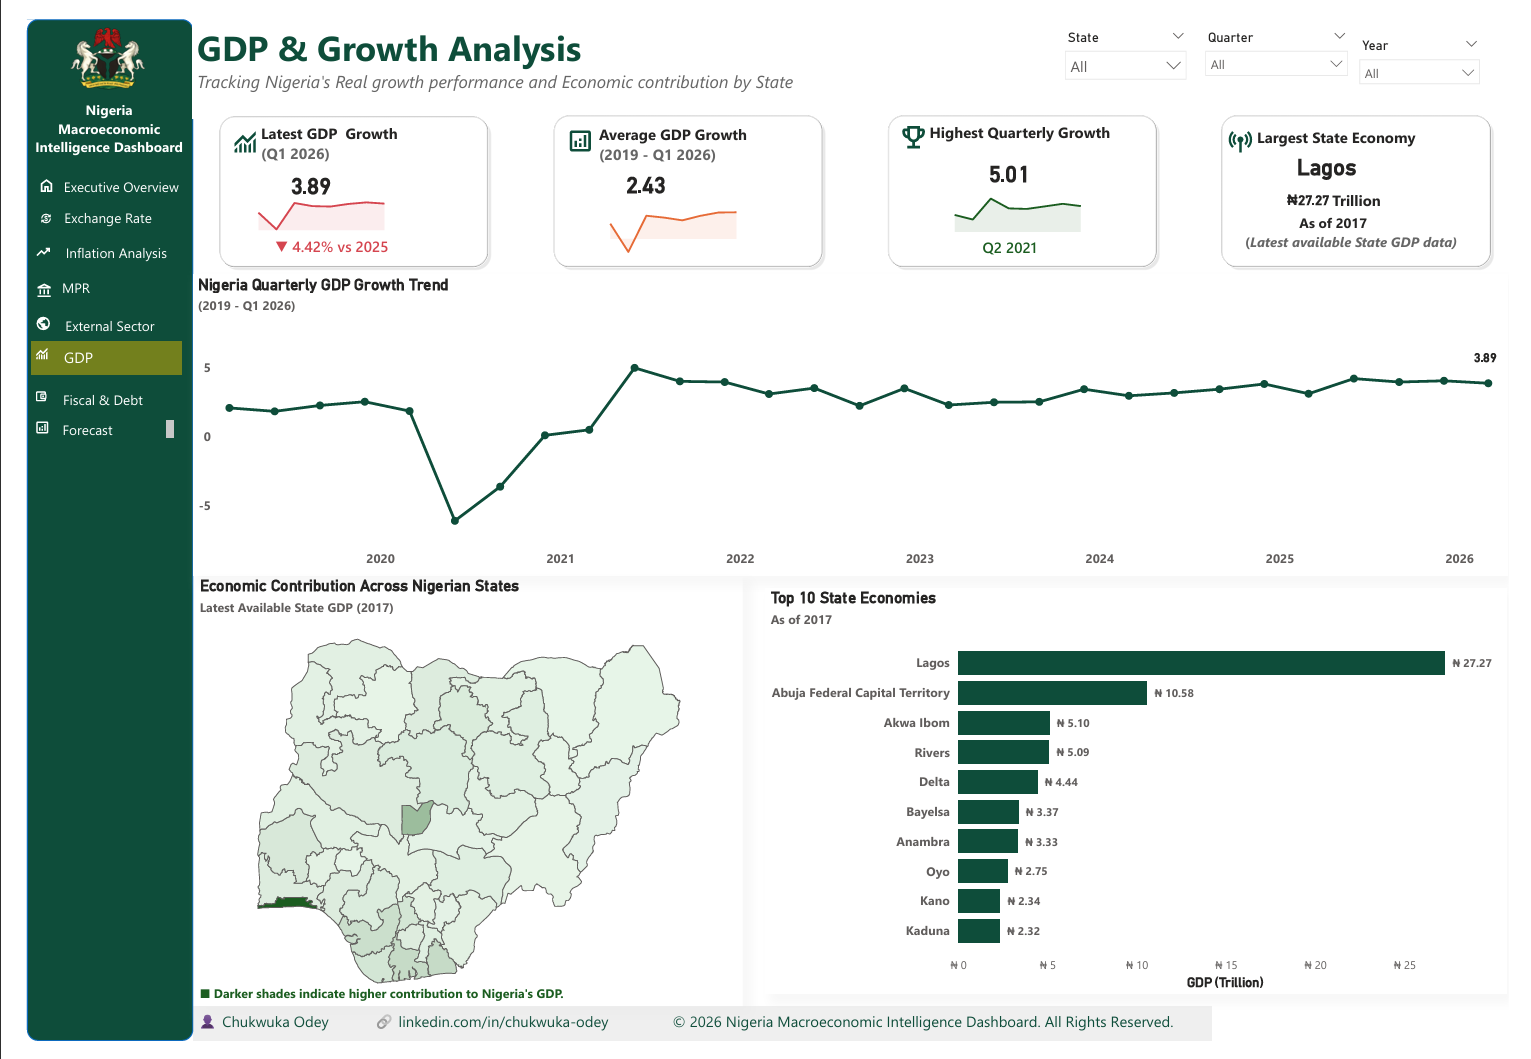

Layout of this report page (visuals, bound fields, positions):
{"tool":"powerbi","page":{"name":"GDP","canvas":[1600,1100],"ordinal":1},"visuals":[{"type":"shape","box":[3.7,0,179.3,1100.4],"z":0},{"type":"shape","box":[565.8,98.2,300,173.9],"z":0,"group":"g12"},{"type":"shape","box":[925.5,98.2,300,173.9],"z":0,"group":"g11"},{"type":"shape","box":[1285.3,98.2,300.8,173.7],"z":0,"group":"g10"},{"type":"shape","box":[206,98.6,300,173],"z":0,"group":"g9"},{"type":"textbox","title":"Executive Overview","box":[17.6,165.4,155,31.8],"z":0,"group":"g7"},{"type":"image","box":[15.6,209.1,17,11.4],"z":0,"group":"g8"},{"type":"image","box":[13.1,240,16.9,20],"z":0,"group":"g6"},{"type":"textbox","title":"Executive Overview","box":[13.5,274.1,158.6,36.2],"z":0,"group":"g5"},{"type":"textbox","title":"Executive Overview","box":[2.8,315.3,160.7,29.9],"z":0,"group":"g4"},{"type":"actionButton","box":[8.6,347.1,162.2,36],"z":0,"group":"g3"},{"type":"textbox","title":"Executive Overview","box":[10.6,393.8,149.5,29.9],"z":0,"group":"g2"},{"type":"image","box":[12.1,430.6,16.7,17.2],"z":0,"group":"g1"},{"type":"image","title":"Coat of Arm","box":[0,0,182.1,107.5],"z":1000},{"type":"card","title":"Card 1","fields":{"Values":["Measures (2).Largest State"]},"box":[1333.9,137.4,140.1,43],"z":1000,"group":"g10"},{"type":"card","title":"Card 1","fields":{"Values":["Measures (2).Average GDP Growth"]},"box":[597.6,156.1,145.7,43],"z":1000,"group":"g12"},{"type":"image","box":[16.4,170.5,17.4,17.9],"z":1000,"group":"g7"},{"type":"textbox","title":"Exchange","box":[5.9,198.4,168.3,36],"z":1000,"group":"g8"},{"type":"card","title":"Card 2","fields":{"Values":["Measures (2).Highest Growth Period"]},"box":[968.5,234.6,186.8,26.2],"z":1000,"group":"g11"},{"type":"textbox","title":"Executive Overview","box":[13.6,236,160.7,36.8],"z":1000,"group":"g6"},{"type":"image","box":[13.4,283.6,16.9,17.1],"z":1000,"group":"g5"},{"type":"image","box":[13.3,319.4,16.8,17],"z":1000,"group":"g4"},{"type":"textbox","title":"Executive Overview","box":[0.8,347.8,163.9,34.4],"z":1000,"group":"g3"},{"type":"image","box":[10.1,398.7,16.8,14.2],"z":1000,"group":"g2"},{"type":"textbox","title":"Executive Overview","box":[1,426.2,165.8,29.6],"z":1000,"group":"g1"},{"type":"card","title":"Card 1","fields":{"Values":["Measures (2).Largest State GDP (T)"]},"box":[1339.5,179.9,89.7,31.8],"z":1500,"group":"g10"},{"type":"textbox","box":[3.7,82.2,177.5,74.7],"z":2000},{"type":"textbox","box":[614.9,107.8,199.9,54.2],"z":2000,"group":"g12"},{"type":"textbox","box":[1323.9,111.2,183.1,37.4],"z":2000,"group":"g10"},{"type":"card","title":"Card 1","fields":{"Values":["Measures (2).Highest GDP Growth"]},"box":[990.9,144.9,140.1,41.1],"z":2000,"group":"g11"},{"type":"card","title":"Card 1","fields":{"Values":["Measures (2).Latest GDP Growth"]},"box":[239.7,157.1,140.1,43],"z":2000,"group":"g9"},{"type":"actionButton","box":[6,161.2,170,35.9],"z":2000,"group":"g7"},{"type":"actionButton","box":[5.5,201.2,170,32.1],"z":2000,"group":"g8"},{"type":"actionButton","box":[0,231.7,173.7,41.1],"z":2000,"group":"g6"},{"type":"actionButton","box":[4.8,274.6,169.2,34.9],"z":2000,"group":"g5"},{"type":"actionButton","box":[3.4,310.2,170.7,35.3],"z":2000,"group":"g4"},{"type":"image","box":[10.5,352.2,17.8,16.4],"z":2000,"group":"g3"},{"type":"actionButton","box":[5,385.6,172.5,36.2],"z":2000,"group":"g2"},{"type":"actionButton","box":[3.3,421.6,167.5,35.3],"z":2000,"group":"g1"},{"type":"textbox","box":[1404.9,179,155.1,33.6],"z":2500,"group":"g10"},{"type":"card","title":"Card 2","fields":{"Values":["Measures (2).GDP Growth Change Display"]},"box":[239.2,232.3,186.8,26.2],"z":2500,"group":"g9"},{"type":"textbox","box":[970,106.5,227.9,41.1],"z":3000,"group":"g11"},{"type":"textbox","box":[250.9,106.6,168.1,54.2],"z":3000,"group":"g9"},{"type":"image","box":[578.9,115.8,41,30.6],"z":3000,"group":"g12"},{"type":"image","box":[1290.9,116.9,39.2,29.9],"z":3000,"group":"g10"},{"type":"group","id":"g1","title":"Nav Forecasting & Outlook","box":[1,421.6,170,36],"z":3000},{"type":"lineChart","fields":{"Category":["GDP Growth.Year"],"Y":["Measures (2).Highest GDP Growth"]},"box":[968.2,171.9,185,63.5],"z":3500,"group":"g11"},{"type":"lineChart","fields":{"Y":["Measures (2).Average GDP Growth"],"Category":["GDP Growth.Year"]},"box":[597.6,193.5,185,63.5],"z":3500,"group":"g12"},{"type":"image","box":[938.6,111.3,39.2,31.8],"z":4000,"group":"g11"},{"type":"group","id":"g2","title":"Nav Fiscal & Debt Analysis","box":[5,385.6,172.5,38],"z":4000},{"type":"image","box":[218.7,116.2,39.6,30.6],"z":5000,"group":"g9"},{"type":"group","id":"g3","title":"Nav Economic Growth","box":[0.8,347.1,170,36],"z":5000},{"type":"lineChart","fields":{"Y":["Measures (2).Latest GDP Growth"],"Category":["GDP Growth.Year"]},"box":[218.6,168.8,185,63.5],"z":5500,"group":"g9"},{"type":"group","id":"g4","title":"Nav External Sector","box":[2.8,310.2,171.2,35.3],"z":6000},{"type":"group","id":"g5","title":"Nav Monetary Policy (MPR)","box":[4.8,274.1,169.2,36.2],"z":7000},{"type":"group","id":"g6","title":"Nav Inflation Analysis","box":[0,231.7,175.6,41.1],"z":8000},{"type":"group","id":"g7","title":"Nav - Executive Overview","box":[6,161.2,170,36],"z":9000},{"type":"group","id":"g8","title":"Nav - Exchange","box":[5.5,198.4,170,36],"z":10000},{"type":"textbox","box":[182.3,0,744.3,107.1],"z":11000},{"type":"group","id":"g9","title":"Latest Exchange KPI","box":[206,98.6,300,173],"z":12000},{"type":"group","id":"g10","title":"Annual KPI","box":[1285.3,98.2,300.8,173.7],"z":13000},{"type":"group","id":"g11","title":"monthly KPI","box":[925.5,98.2,300,173.9],"z":14000},{"type":"group","id":"g12","title":"Highest Exchange","box":[565.8,98.2,300,173.9],"z":15000},{"type":"textbox","box":[183.1,1063,1096.6,37.4],"z":16000},{"type":"lineChart","title":"Nigeria Quarterly GDP Growth Trend","fields":{"Category":["GDP Growth.Date"],"Y":["Measures (2).Latest GDP Growth"]},"box":[183.1,274.6,1416.1,325.1],"z":16002,"group":"g13"},{"type":"card","title":"Card 1","fields":{"Values":["Measures (2).Latest GDP Growth"]},"box":[1548.6,344.4,52.3,41.1],"z":16502,"group":"g13"},{"type":"textbox","box":[1311.5,203.6,248.5,50.4],"z":17000},{"type":"group","id":"g13","title":"Group 1","box":[183.1,274.6,1417.8,325.1],"z":18000},{"type":"shapeMap","title":"Economic Contribution Across Nigerian States","fields":{"Category":["Combine.State"],"Value":["Sum(Combine.GDP Share (%))"]},"box":[185,599.7,590.4,463.3],"z":19000},{"type":"textbox","box":[185,1035,405.4,28],"z":20000},{"type":"clusteredBarChart","title":"Top 10 State Economies","fields":{"Category":["Combine.State"],"Y":["Measures (2).GDP (Trillion)"]},"box":[799.6,612.8,799.6,437.2],"z":21000},{"type":"slicer","fields":{"Values":["GDP Growth.Year"]},"box":[1429.2,14.9,149.5,67.3],"z":22000},{"type":"slicer","fields":{"Values":["Combine.State"]},"box":[1111.6,5.6,151.3,87.8],"z":23000},{"type":"slicer","fields":{"Values":["Date.Quarter"]},"box":[1262.9,5.6,173.7,72.9],"z":24000}]}

Visuals, with their boxes in screenshot pixels (x1, y1, x2, y2), scaled from the page's 1600x1100 canvas onto the 1531x1059 screenshot:
shape: BBox(4, 0, 175, 1058)
shape: BBox(541, 95, 828, 262)
shape: BBox(886, 95, 1173, 262)
shape: BBox(1230, 95, 1518, 262)
shape: BBox(197, 95, 484, 261)
"Executive Overview" textbox: BBox(17, 159, 165, 190)
image: BBox(15, 201, 31, 212)
image: BBox(13, 231, 29, 250)
"Executive Overview" textbox: BBox(13, 264, 165, 299)
"Executive Overview" textbox: BBox(3, 304, 156, 332)
actionButton: BBox(8, 334, 163, 369)
"Executive Overview" textbox: BBox(10, 379, 153, 408)
image: BBox(12, 415, 28, 431)
"Coat of Arm" image: BBox(0, 0, 174, 103)
"Card 1" card: BBox(1276, 132, 1410, 174)
"Card 1" card: BBox(572, 150, 711, 192)
image: BBox(16, 164, 32, 181)
"Exchange" textbox: BBox(6, 191, 167, 226)
"Card 2" card: BBox(927, 226, 1105, 251)
"Executive Overview" textbox: BBox(13, 227, 167, 263)
image: BBox(13, 273, 29, 289)
image: BBox(13, 307, 29, 324)
"Executive Overview" textbox: BBox(1, 335, 158, 368)
image: BBox(10, 384, 26, 398)
"Executive Overview" textbox: BBox(1, 410, 160, 439)
"Card 1" card: BBox(1282, 173, 1368, 204)
textbox: BBox(4, 79, 173, 151)
textbox: BBox(588, 104, 780, 156)
textbox: BBox(1267, 107, 1442, 143)
"Card 1" card: BBox(948, 139, 1082, 179)
"Card 1" card: BBox(229, 151, 363, 193)
actionButton: BBox(6, 155, 168, 190)
actionButton: BBox(5, 194, 168, 225)
actionButton: BBox(0, 223, 166, 263)
actionButton: BBox(5, 264, 166, 298)
actionButton: BBox(3, 299, 167, 333)
image: BBox(10, 339, 27, 355)
actionButton: BBox(5, 371, 170, 406)
actionButton: BBox(3, 406, 163, 440)
textbox: BBox(1344, 172, 1493, 205)
"Card 2" card: BBox(229, 224, 408, 249)
textbox: BBox(928, 103, 1146, 142)
textbox: BBox(240, 103, 401, 155)
image: BBox(554, 111, 593, 141)
image: BBox(1235, 113, 1273, 141)
"Nav Forecasting & Outlook" group: BBox(1, 406, 164, 441)
lineChart - GDP Growth.Year x Measures (2).Highest GDP Growth: BBox(926, 165, 1103, 227)
lineChart - Measures (2).Average GDP Growth x GDP Growth.Year: BBox(572, 186, 749, 247)
image: BBox(898, 107, 936, 138)
"Nav Fiscal & Debt Analysis" group: BBox(5, 371, 170, 408)
image: BBox(209, 112, 247, 141)
"Nav Economic Growth" group: BBox(1, 334, 163, 369)
lineChart - Measures (2).Latest GDP Growth x GDP Growth.Year: BBox(209, 163, 386, 224)
"Nav External Sector" group: BBox(3, 299, 166, 333)
"Nav Monetary Policy (MPR)" group: BBox(5, 264, 166, 299)
"Nav Inflation Analysis" group: BBox(0, 223, 168, 263)
"Nav - Executive Overview" group: BBox(6, 155, 168, 190)
"Nav - Exchange" group: BBox(5, 191, 168, 226)
textbox: BBox(174, 0, 887, 103)
"Latest Exchange KPI" group: BBox(197, 95, 484, 261)
"Annual KPI" group: BBox(1230, 95, 1518, 262)
"monthly KPI" group: BBox(886, 95, 1173, 262)
"Highest Exchange" group: BBox(541, 95, 828, 262)
textbox: BBox(175, 1023, 1225, 1058)
"Nigeria Quarterly GDP Growth Trend" lineChart: BBox(175, 264, 1530, 577)
"Card 1" card: BBox(1482, 332, 1530, 371)
textbox: BBox(1255, 196, 1493, 245)
"Group 1" group: BBox(175, 264, 1530, 577)
"Economic Contribution Across Nigerian States" shapeMap: BBox(177, 577, 742, 1023)
textbox: BBox(177, 996, 565, 1023)
"Top 10 State Economies" clusteredBarChart: BBox(765, 590, 1530, 1011)
slicer - GDP Growth.Year: BBox(1368, 14, 1511, 79)
slicer - Combine.State: BBox(1064, 5, 1208, 90)
slicer - Date.Quarter: BBox(1208, 5, 1375, 76)
